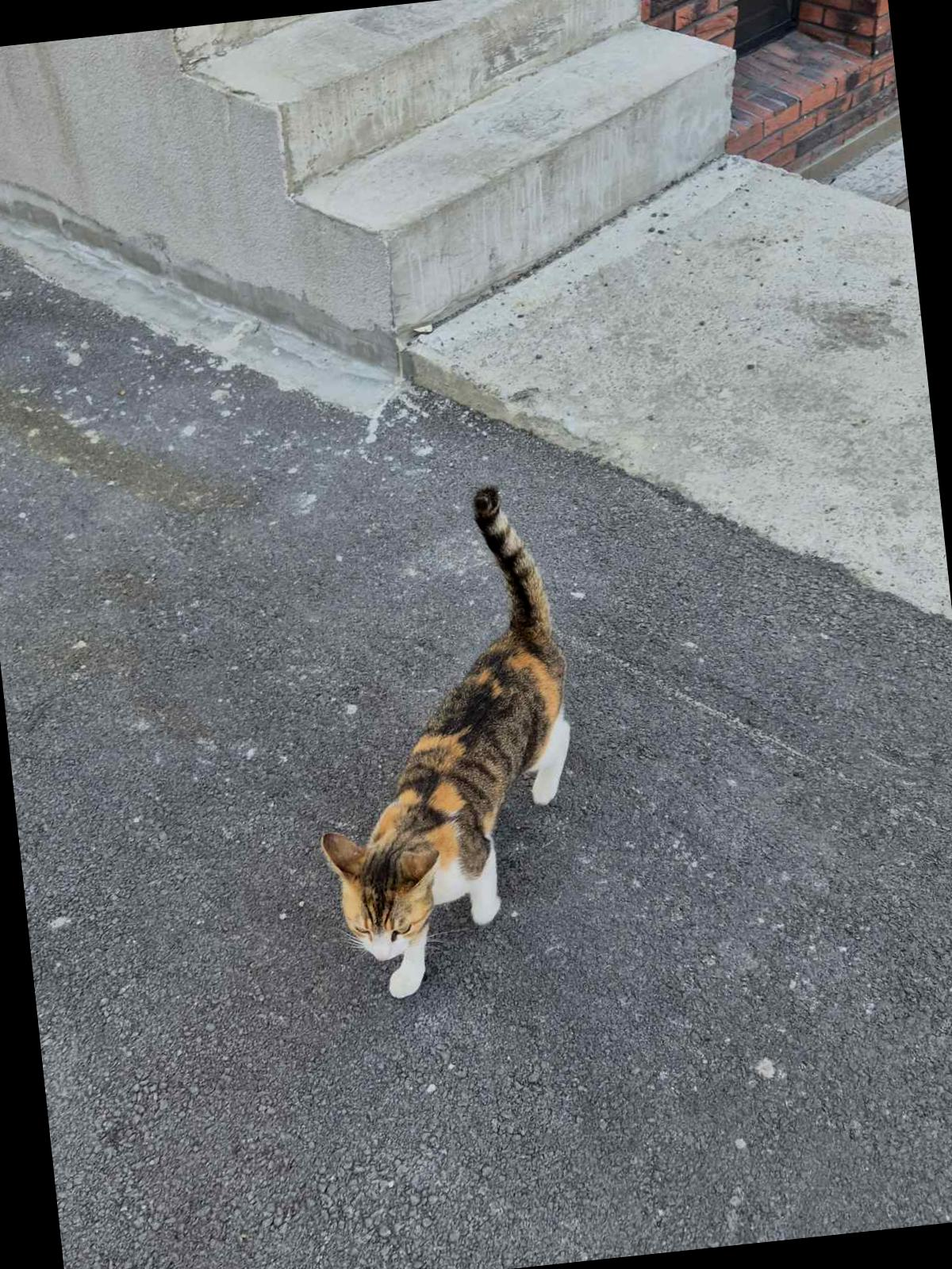macka: (284, 477, 600, 1008)
